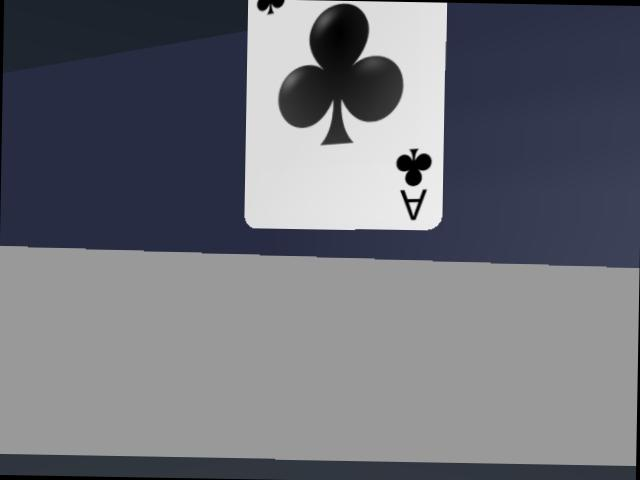club: (245, 0, 446, 229)
